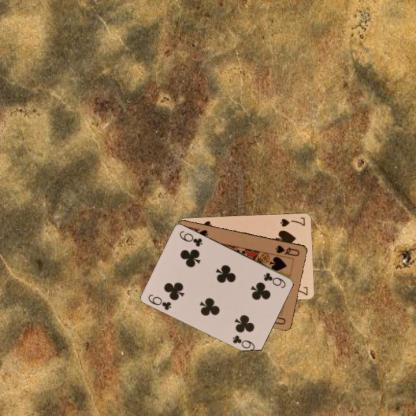6c: (261, 270, 287, 289), (146, 292, 172, 311)
7s: (277, 214, 306, 228)
Qs: (273, 242, 301, 257)
